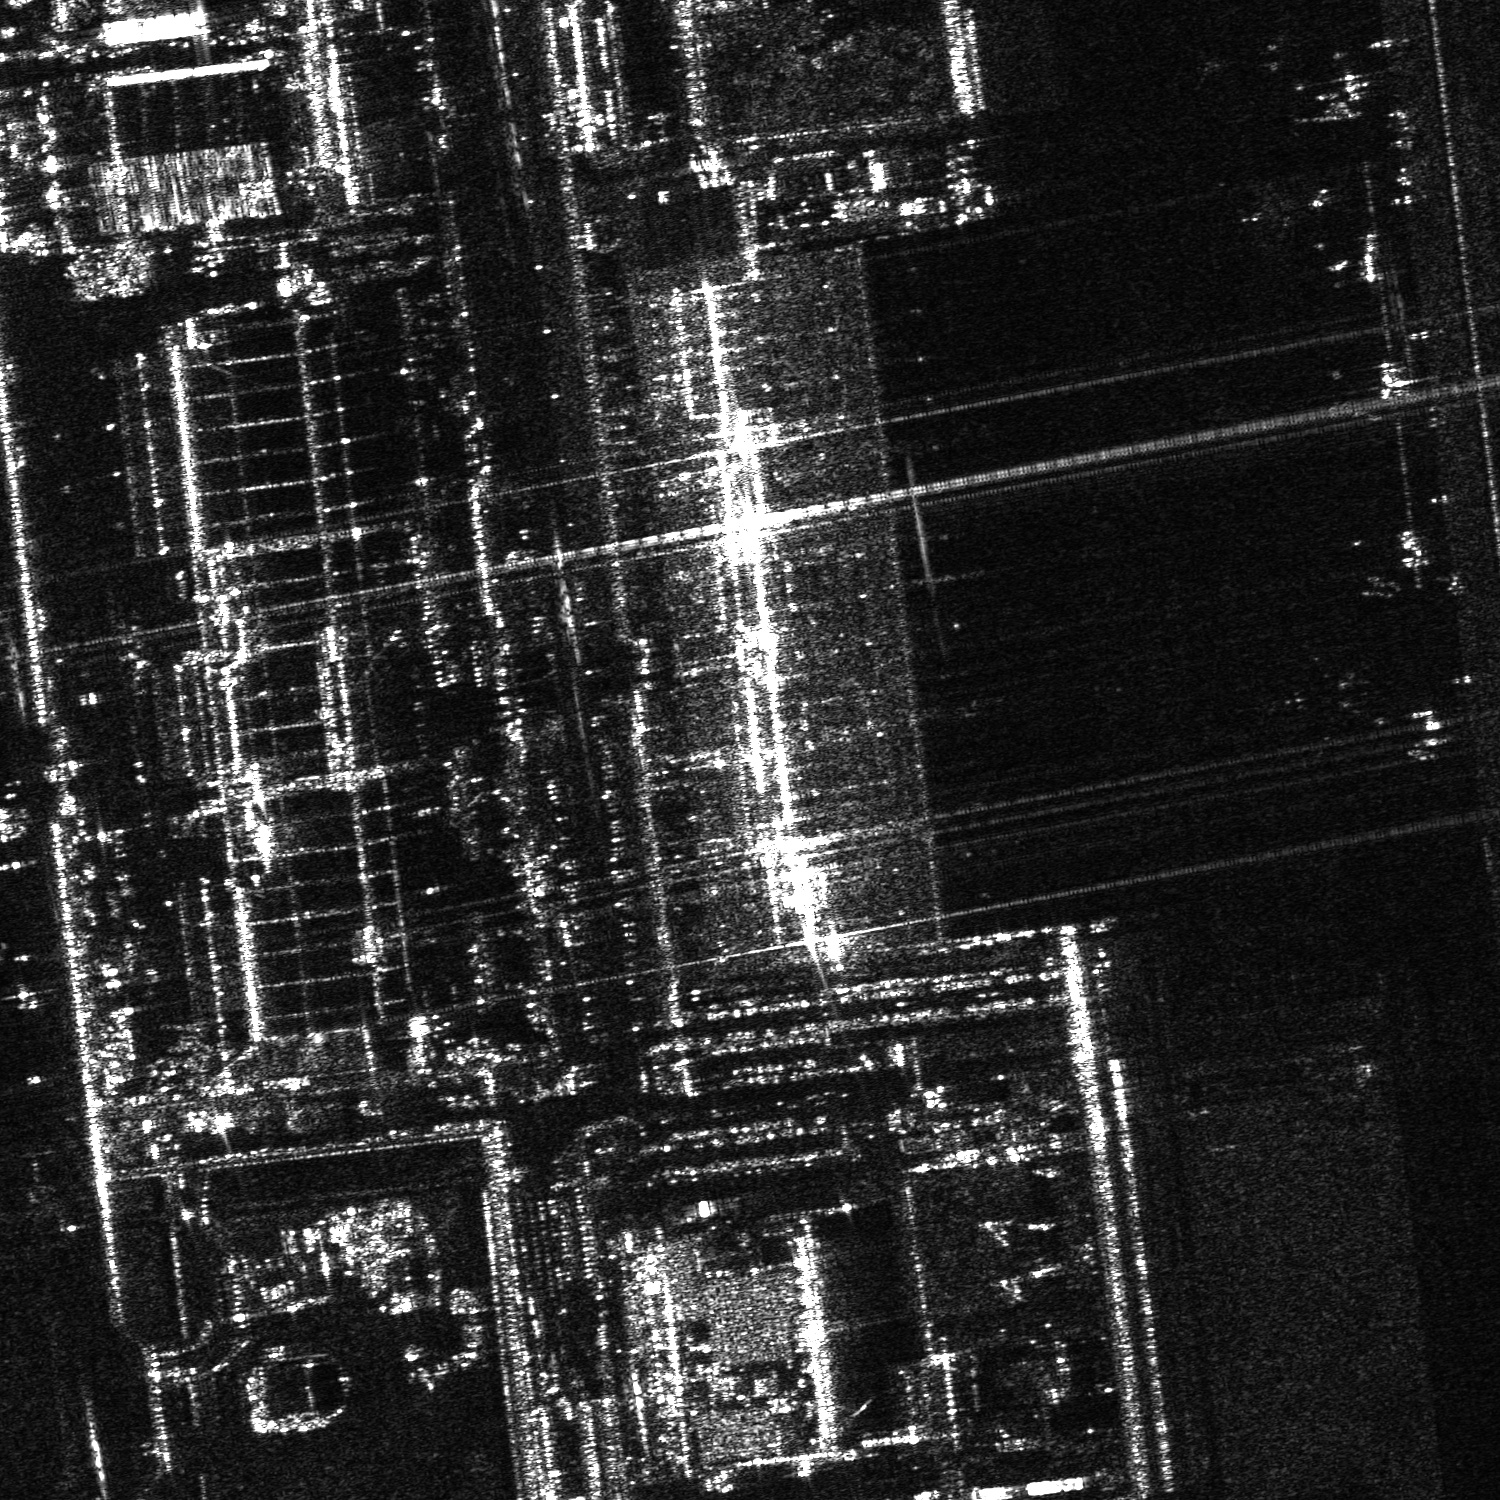A220: (1234, 180, 1304, 247)
Boeing787: (1262, 639, 1376, 760)
